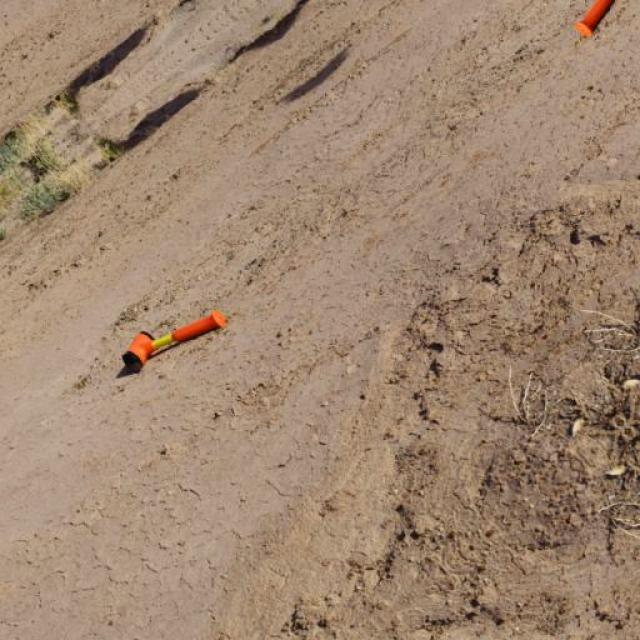mallet: (121, 308, 230, 372), (575, 0, 640, 39)
